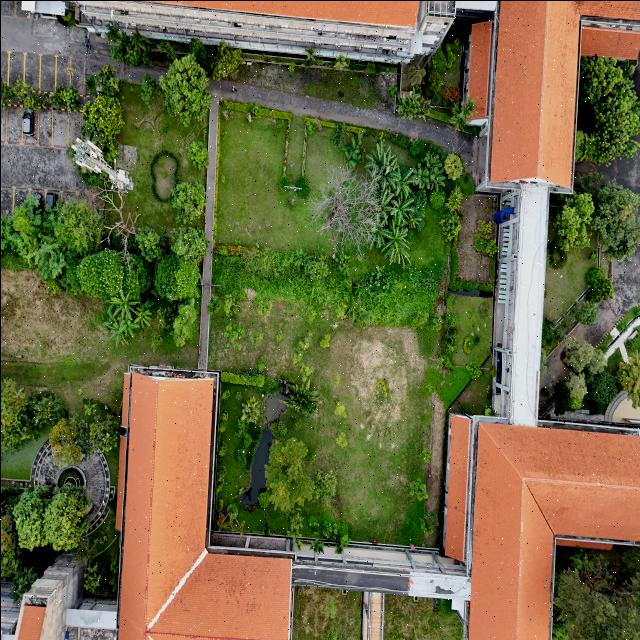Tree: (42, 486, 88, 552), (161, 56, 208, 120), (13, 486, 46, 553), (170, 177, 206, 222), (172, 224, 208, 256), (220, 316, 247, 348), (186, 138, 208, 172), (440, 151, 462, 183), (408, 474, 430, 500), (444, 184, 464, 210), (332, 428, 348, 448)
